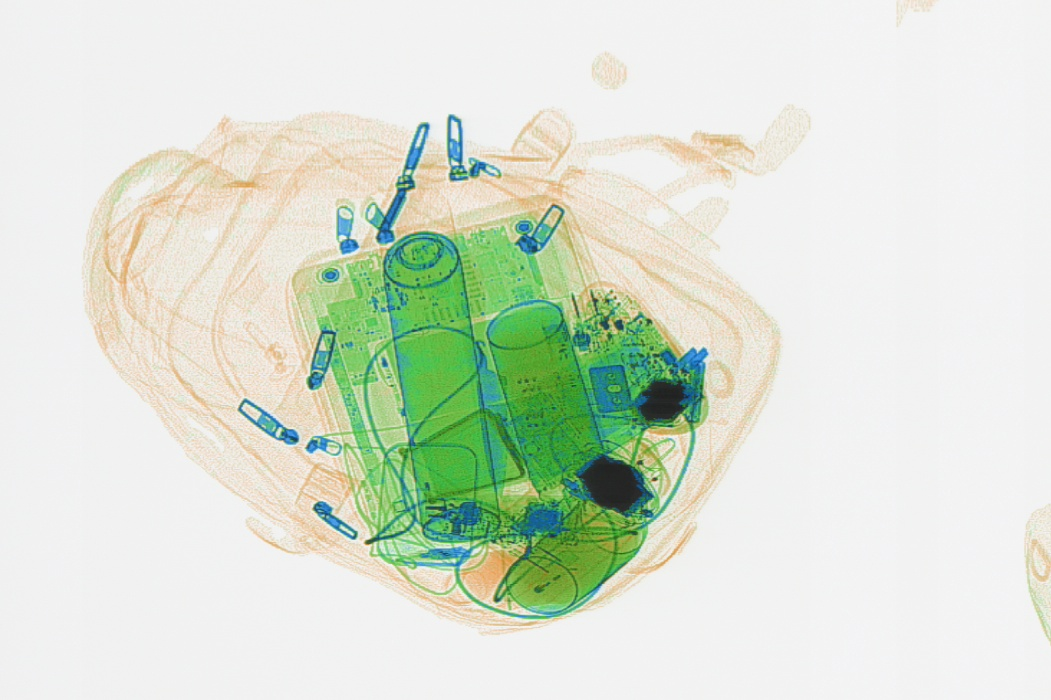lighter: (515, 526, 618, 600)
pressure: (370, 180, 505, 548)
